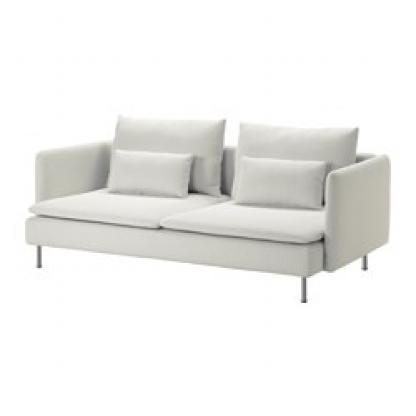Sofa: (22, 93, 394, 305)
